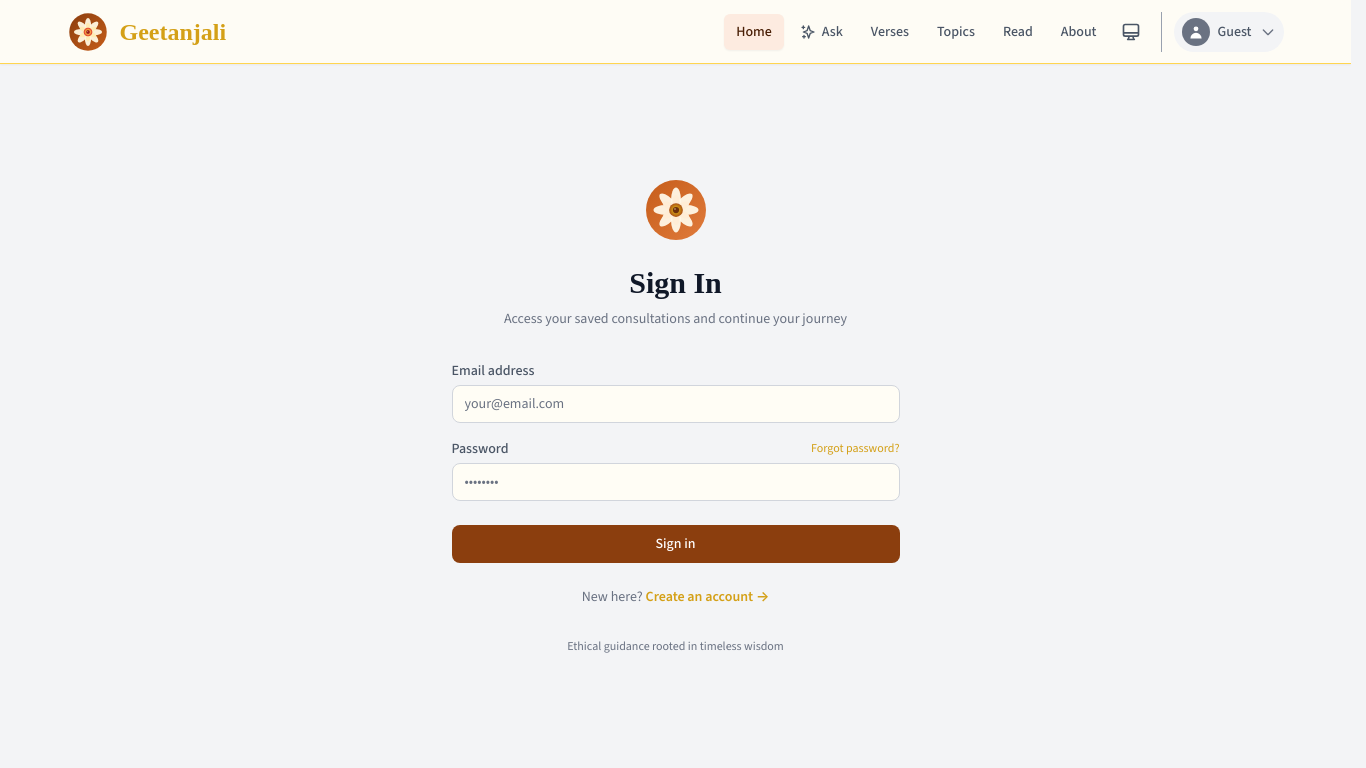
Test: Login Page › should disable button while loading
Type "test@example.com" into the field labelled "Email address". click: (676, 404)
box: [452,384,900,422]
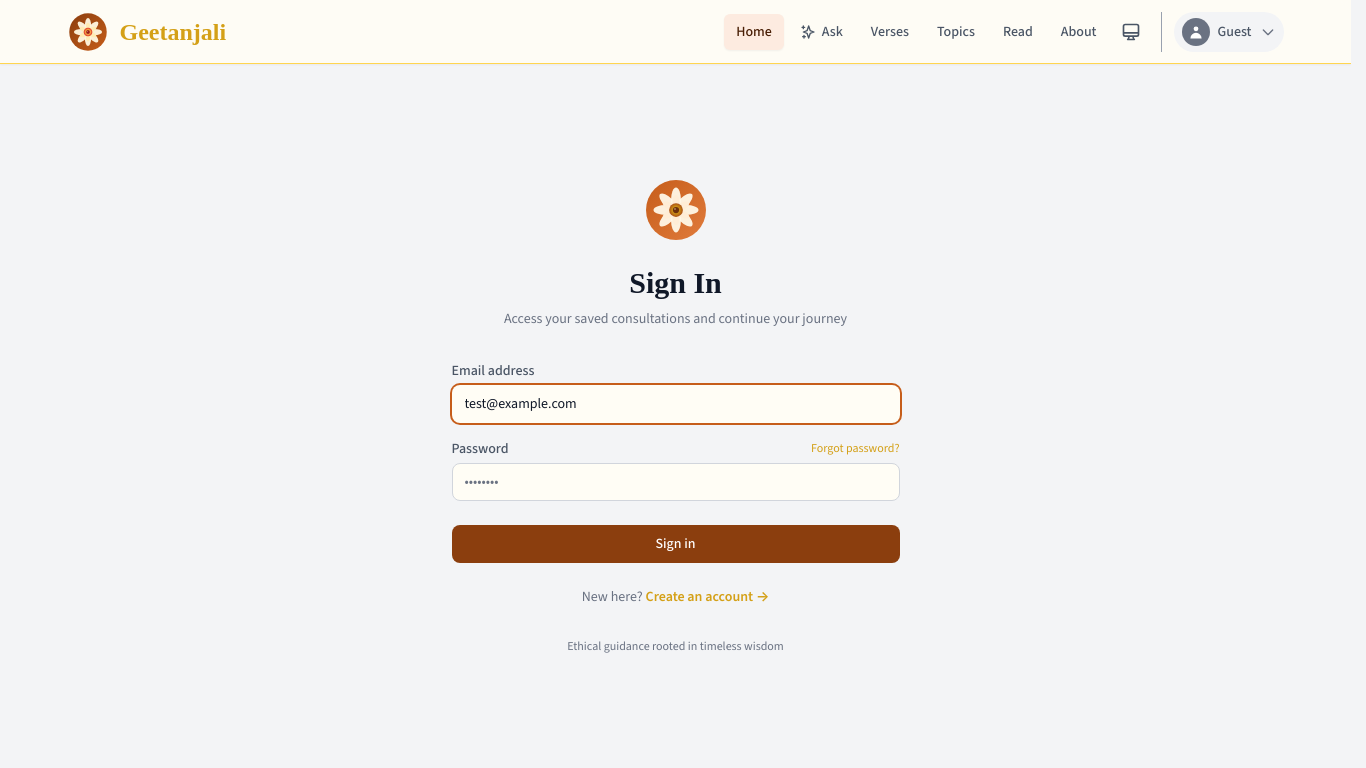
Type "password123" into the password field labelled "Password". click: (676, 482)
box: [452,462,900,500]
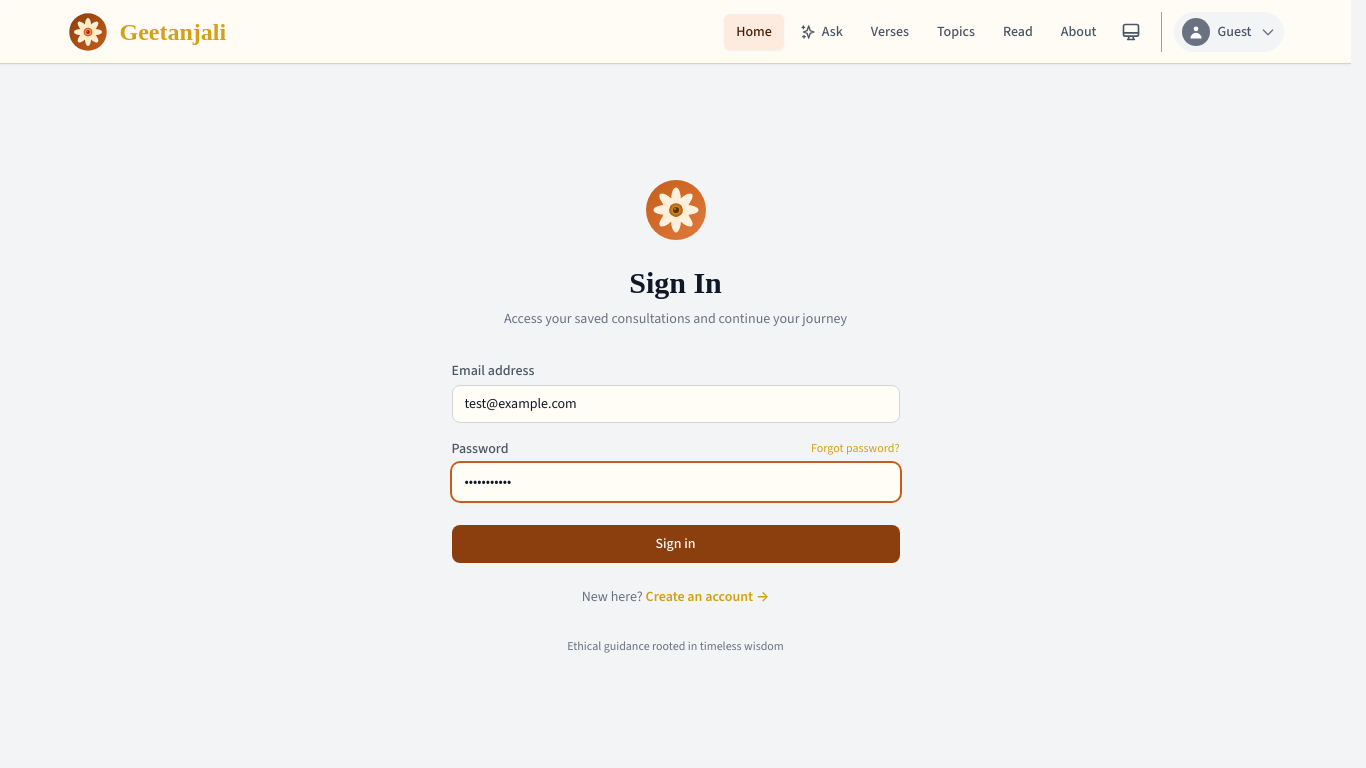
Click the button "Sign in". click: (676, 544)
box: [452,524,900,562]
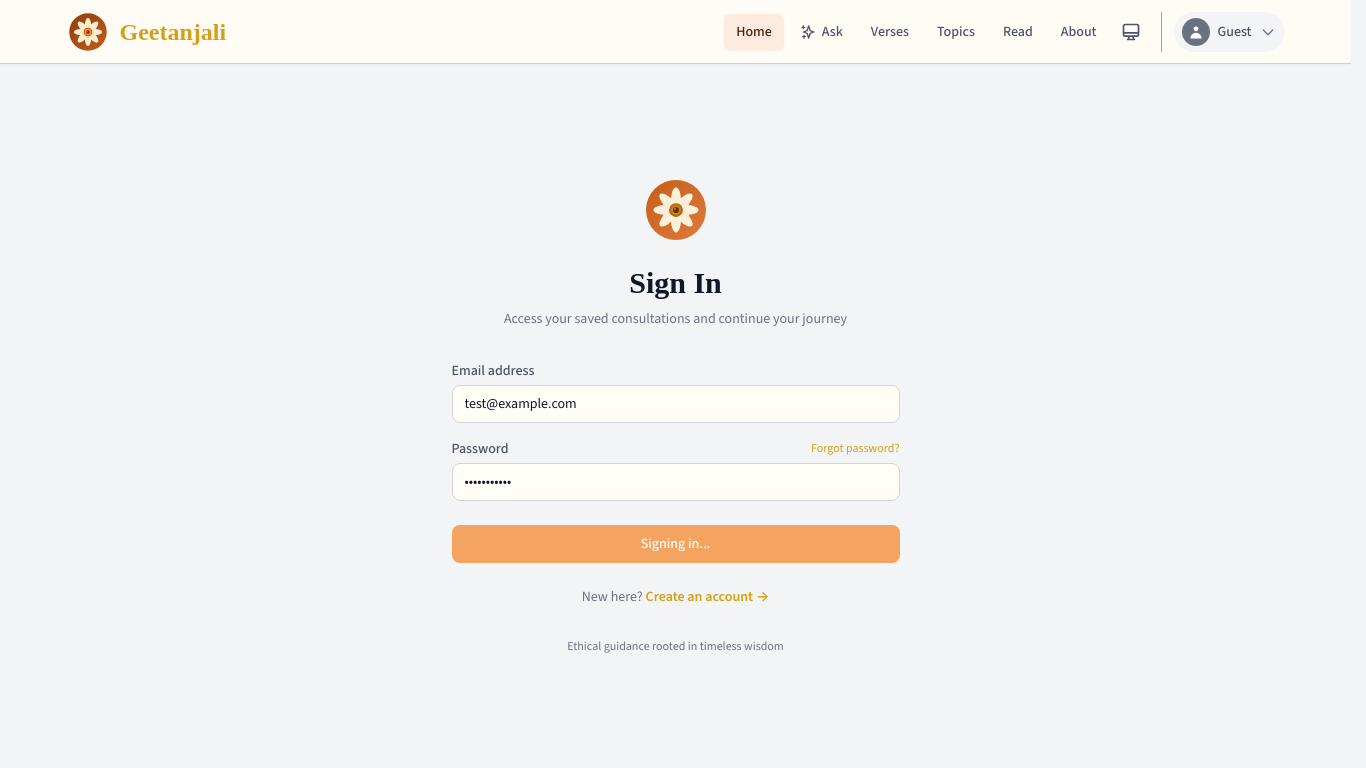
Result: the button "Signing in..." is disabled at [452,524,900,562]
